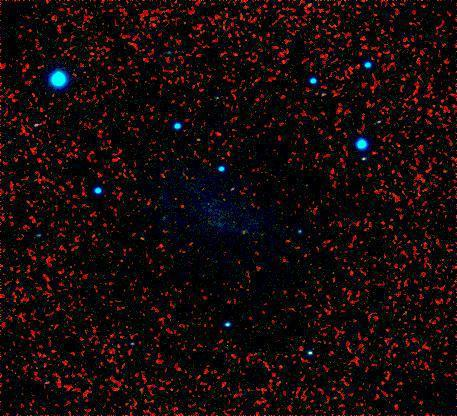star: (231, 224, 261, 254)
